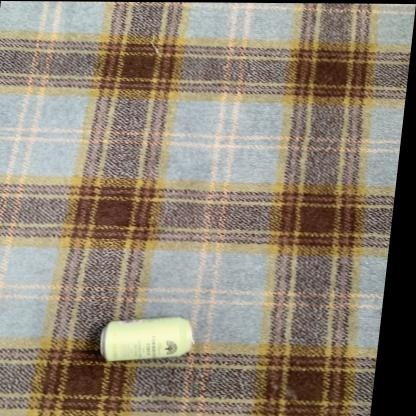trash: (100, 317, 192, 360)
